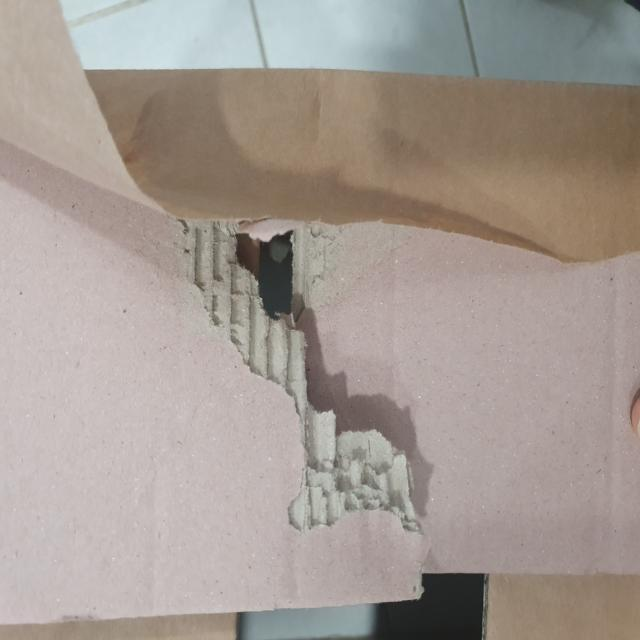hole: (220, 221, 313, 344)
